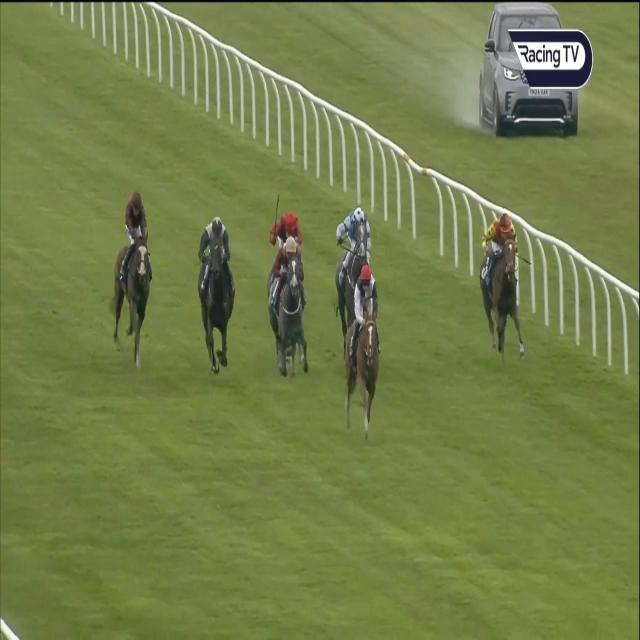horses-racing: (109, 191, 157, 357), (191, 207, 240, 366), (477, 212, 527, 360), (267, 237, 312, 389), (344, 267, 379, 443), (332, 202, 374, 318), (261, 195, 312, 259)
